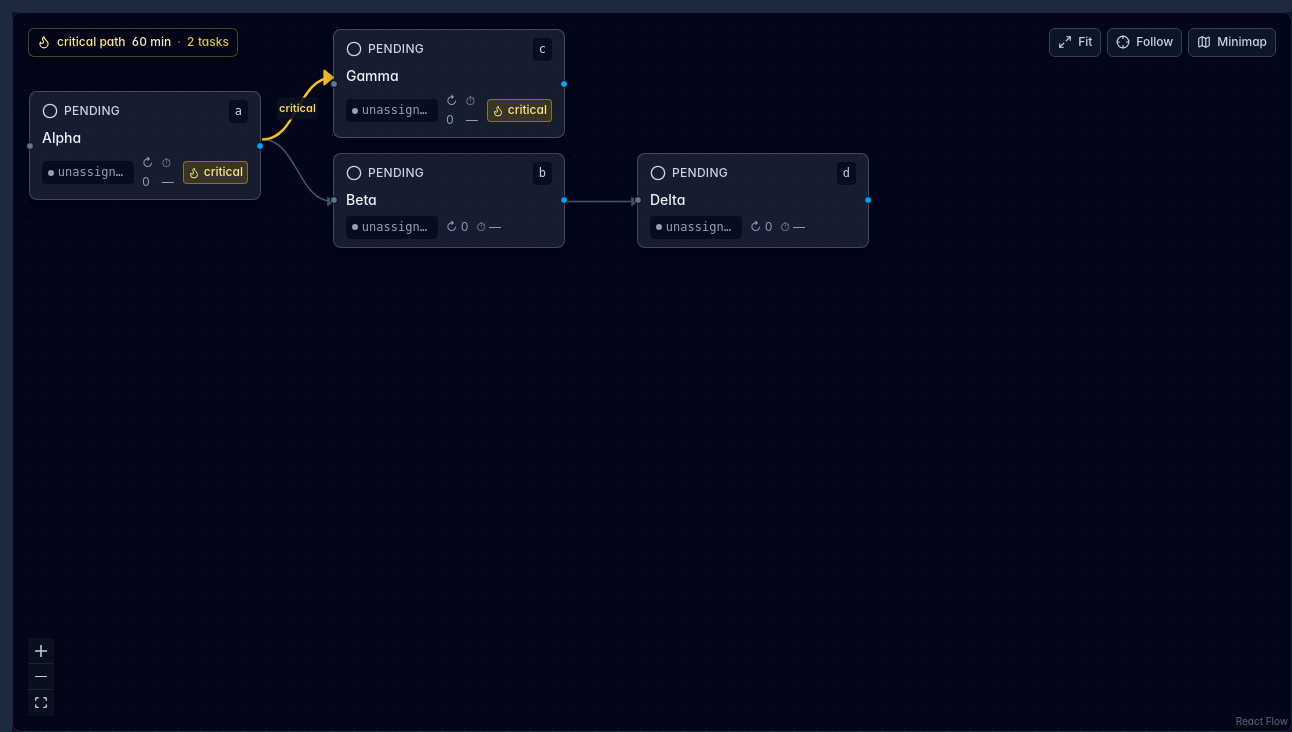
Test: the lane legend lists owns, reads, dependencies and the estimate
The image size is (1292, 732).
Hover over the element with test id "task-node-c" at (449, 84), box [333, 29, 565, 138]
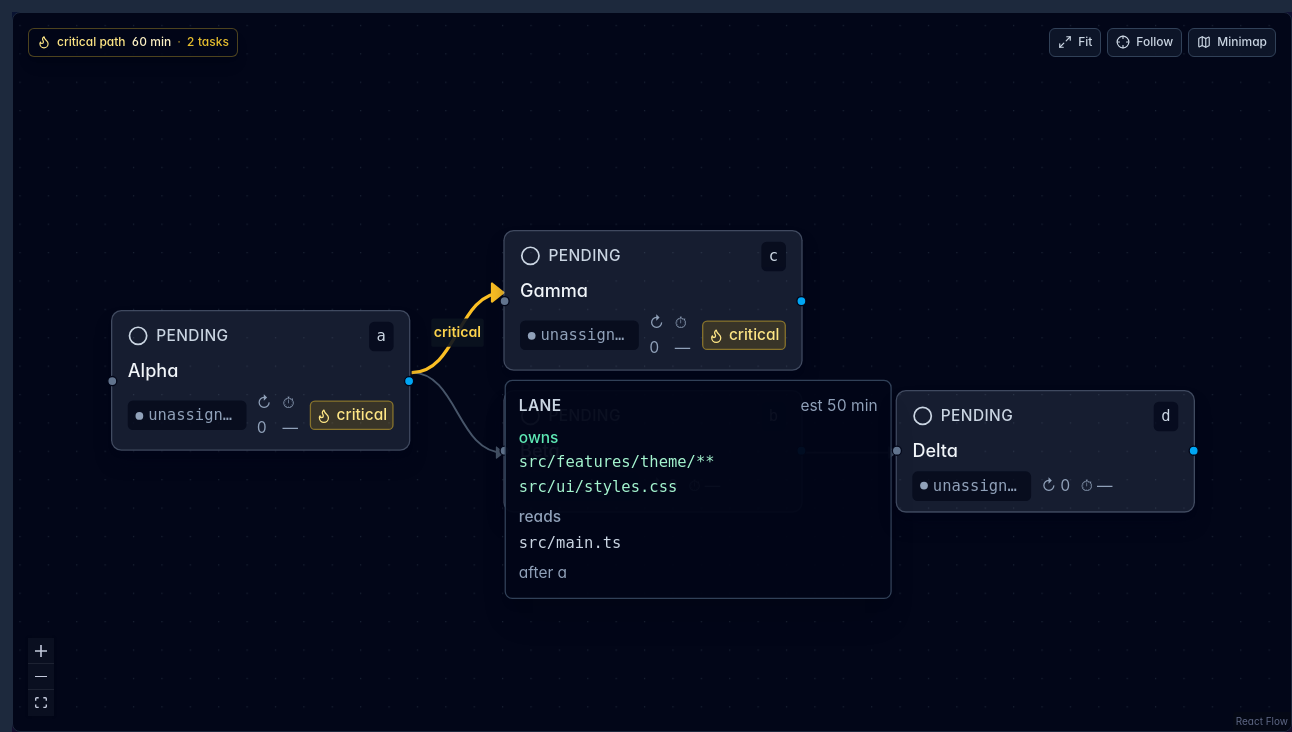
Expected: the tooltip with test id "lane-tooltip-c" shows "est 50 min", [505, 380, 892, 599]
Expected: the tooltip with test id "lane-tooltip-c" shows "src/features/theme/**", [519, 454, 715, 472]
Expected: the tooltip with test id "lane-tooltip-c" shows "src/main.ts", [519, 533, 621, 552]
